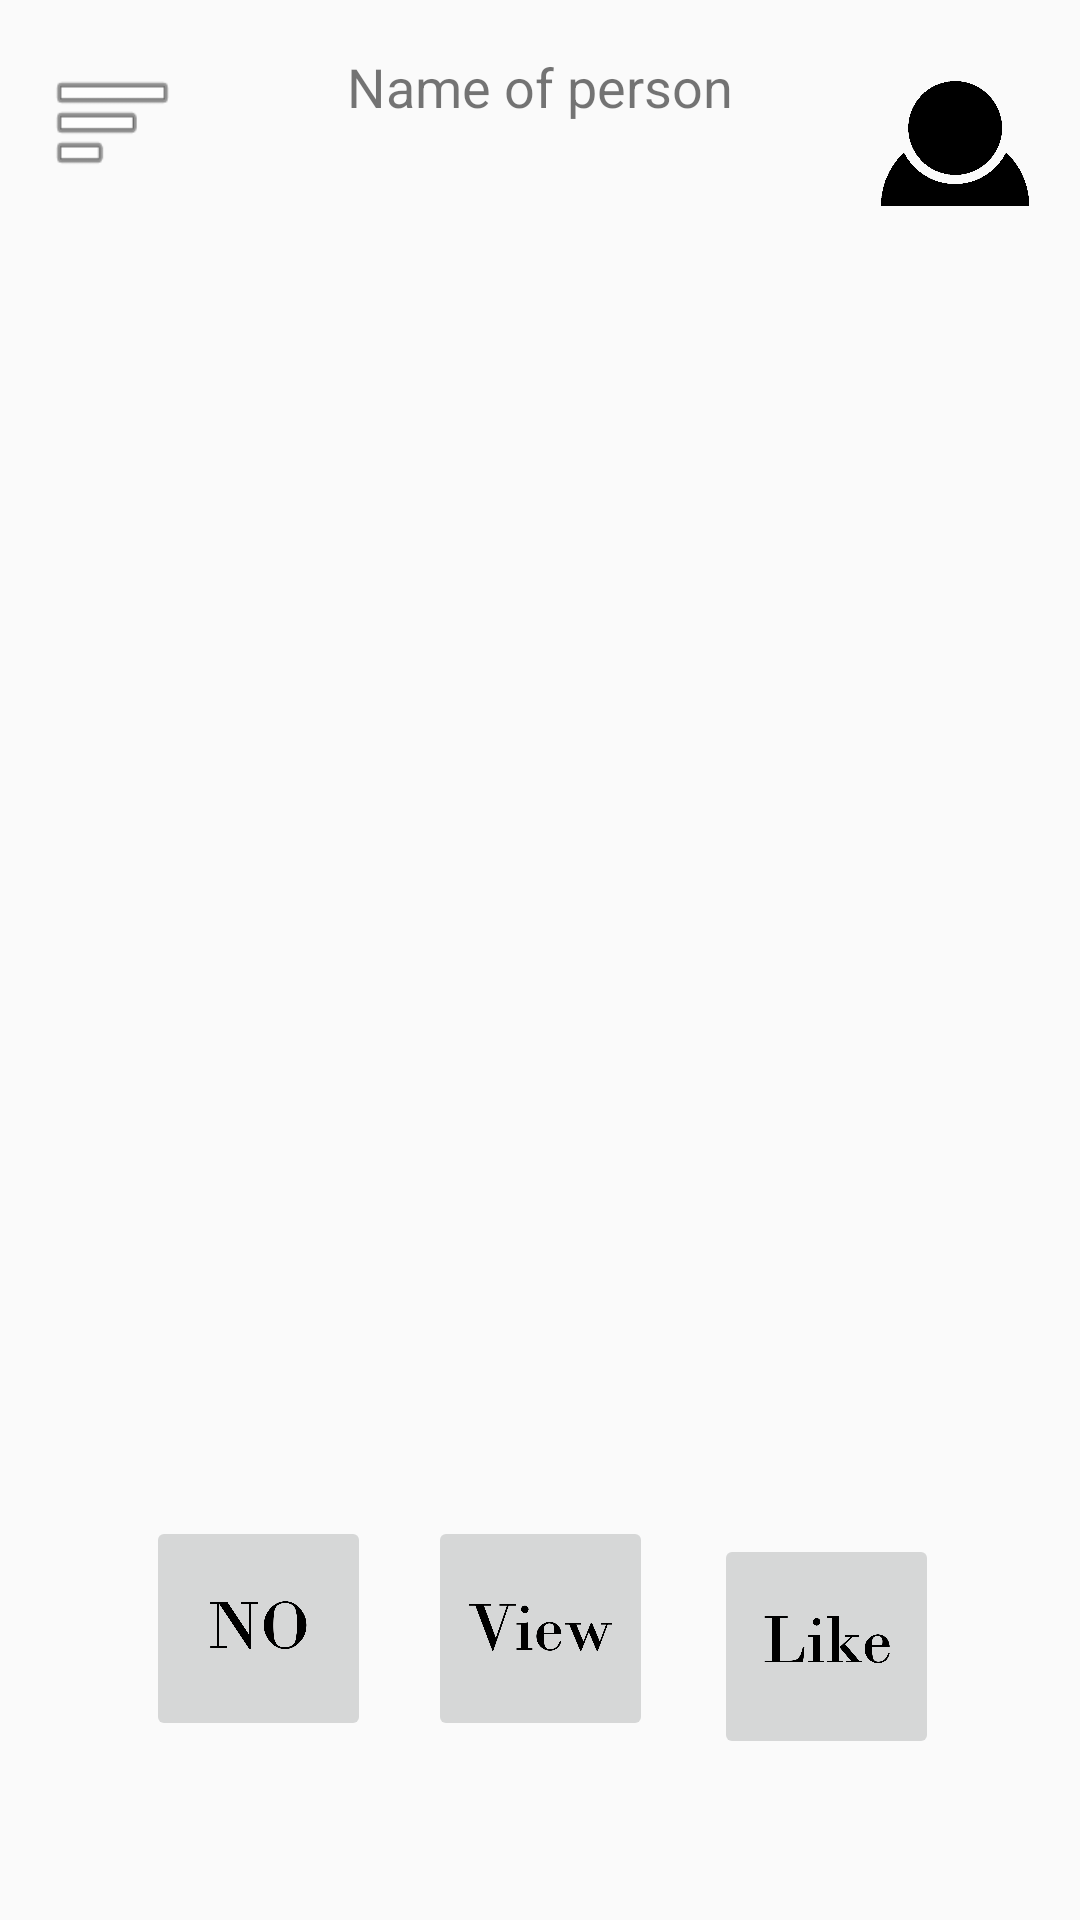

Where to tap for icons on this 1080×1920 app screen, as [x,y]:
profile: [955,143]
sort by size: [112,122]
